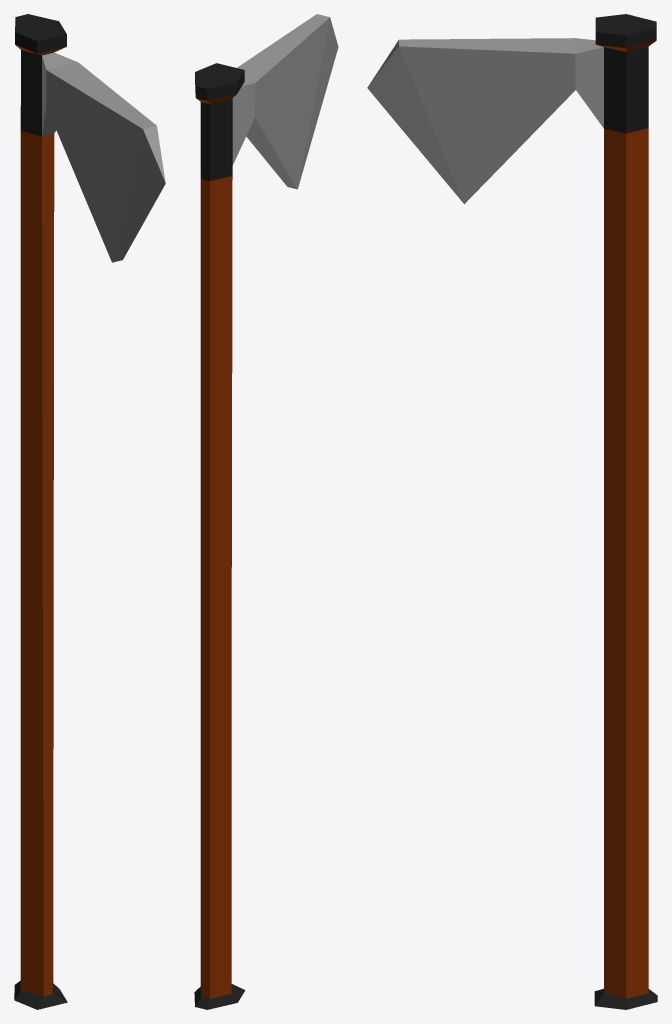
Rendered from great_axe.obj.
The picture shows the model from 3 angles, left to right: view 1: azimuth 30°, elevation 25°; view 2: azimuth 150°, elevation 25°; view 3: azimuth 270°, elevation 25°; orthographic projection. The views are drawn at different scales.
Visible parts, largest first — view 1: great_axe; view 2: great_axe; view 3: great_axe.
Boxes of the visible parts, box(x1,y1,x2,y2) form: great_axe: box(14, 14, 165, 1009); great_axe: box(194, 14, 338, 1009); great_axe: box(367, 14, 657, 1009).
Size of the model in its own units: 0.0286 by 0.5799 by 0.1568.
